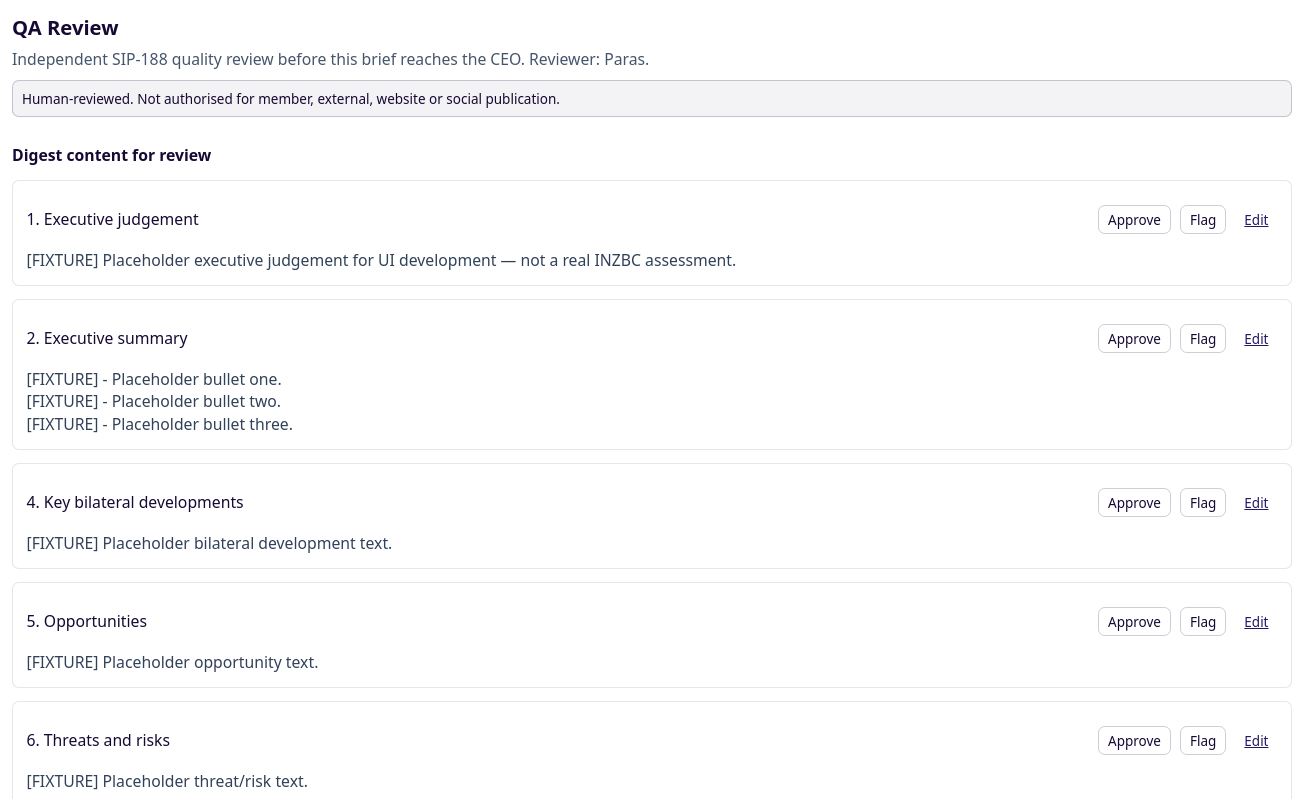
Test case: QaReviewScreen › flagging a section reveals a required reason field, and approving clears any flag
Click the button "Flag" in the row of "1. Executive judgement" at (1203, 220), box x1=1180 y1=205 x2=1226 y2=234
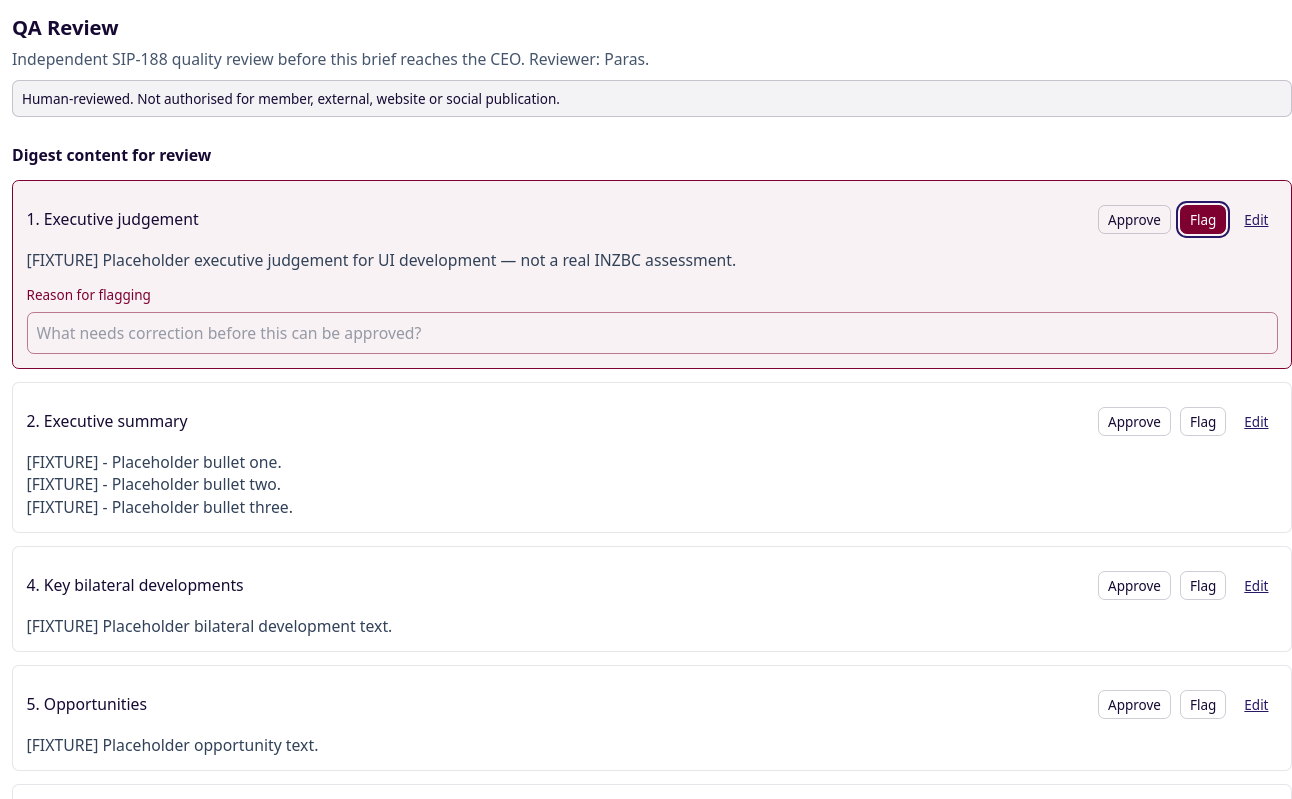
Expected: the button "Flag" in the row of "1. Executive judgement" is pressed, x1=1180 y1=205 x2=1226 y2=234
Type "Numbers need a source check" into the field labelled "Reason for flagging" at (652, 333), box x1=26 y1=312 x2=1278 y2=354
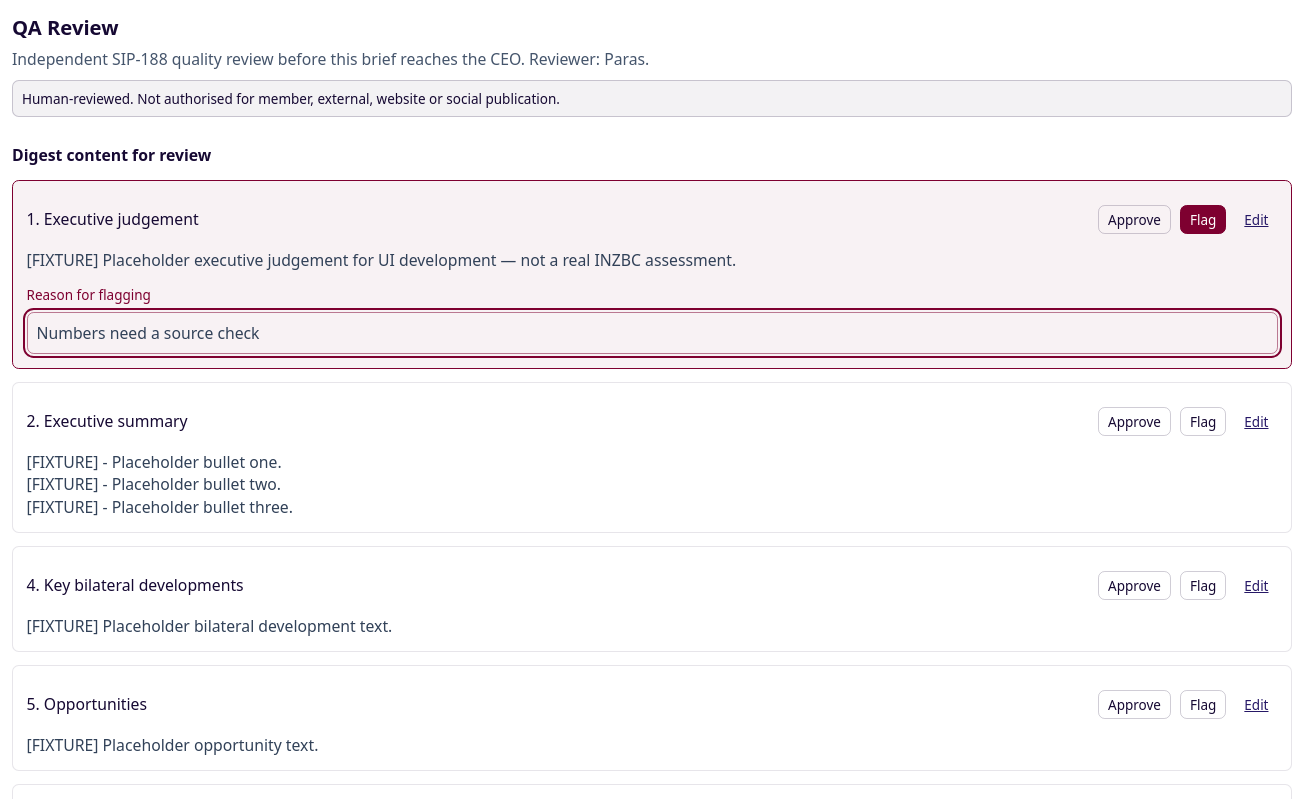
Click the button "Approve" in the row of "1. Executive judgement" at (1134, 220), box x1=1098 y1=205 x2=1171 y2=234
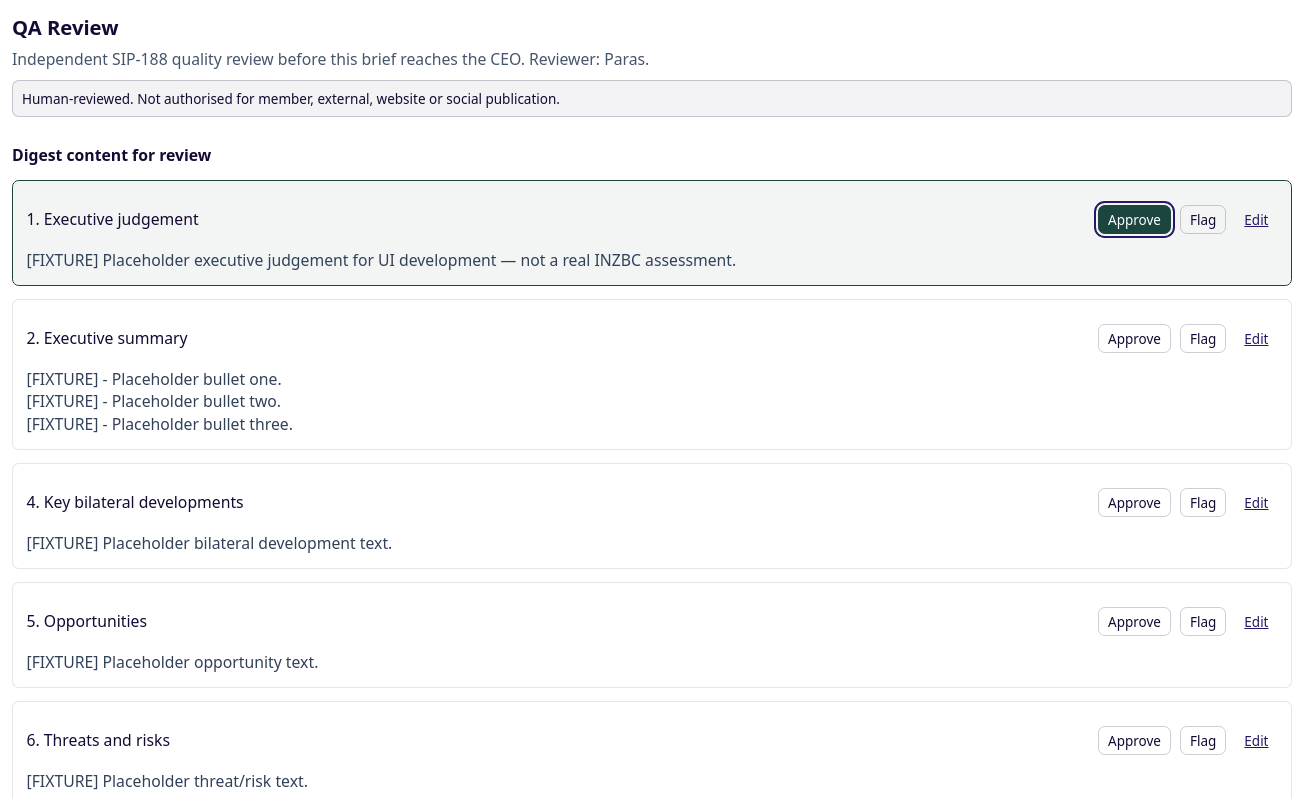
Expected: the label labelled "Reason for flagging" is gone
